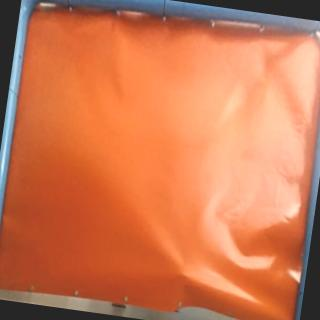Hit-hRxx: (177, 265, 194, 283)
